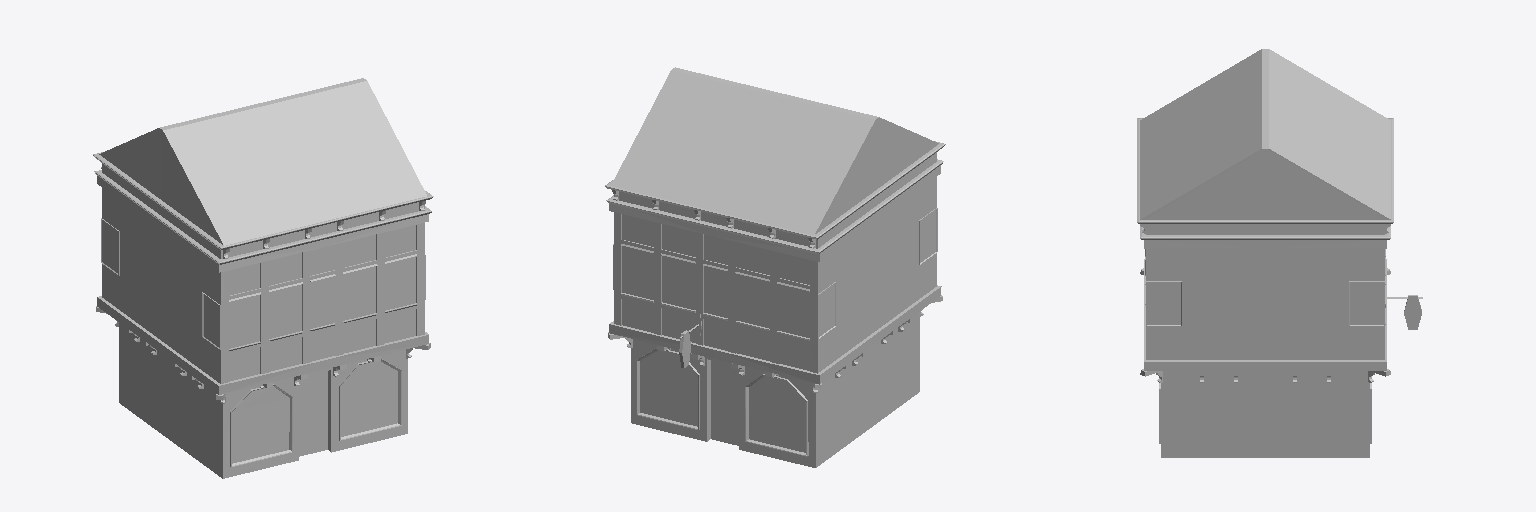
The model's file is house18.obj.
3 views of the same model, side by side, from view 1: azimuth 30°, elevation 25°; view 2: azimuth 150°, elevation 25°; view 3: azimuth 270°, elevation 25° (orthographic).
Parts seen in each view (by area): view 1: City_building_040.001; view 2: City_building_040.001; view 3: City_building_040.001.
Boxes of the visible parts, x1,y1,x2,y2 form: City_building_040.001: [93, 78, 433, 478]; City_building_040.001: [605, 67, 945, 467]; City_building_040.001: [1137, 49, 1422, 457].
Bounding box in the file's own units: 1.41 × 1.97 × 1.62.